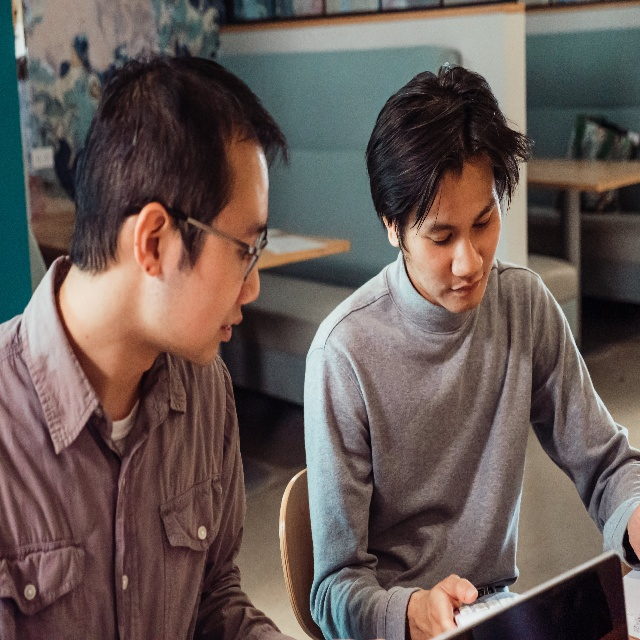Gafas: (162, 203, 268, 280)
Sin_guantes: (407, 573, 479, 640)
